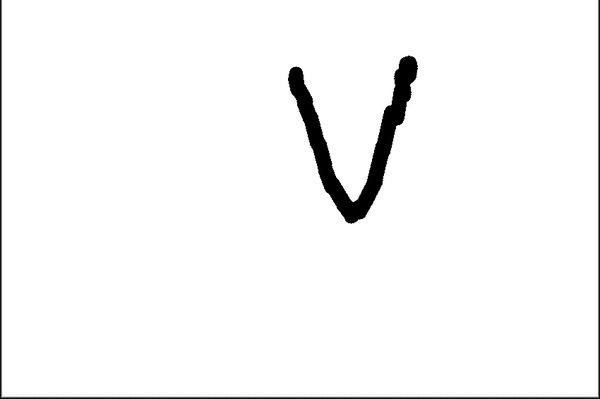V: (277, 46, 429, 225)
